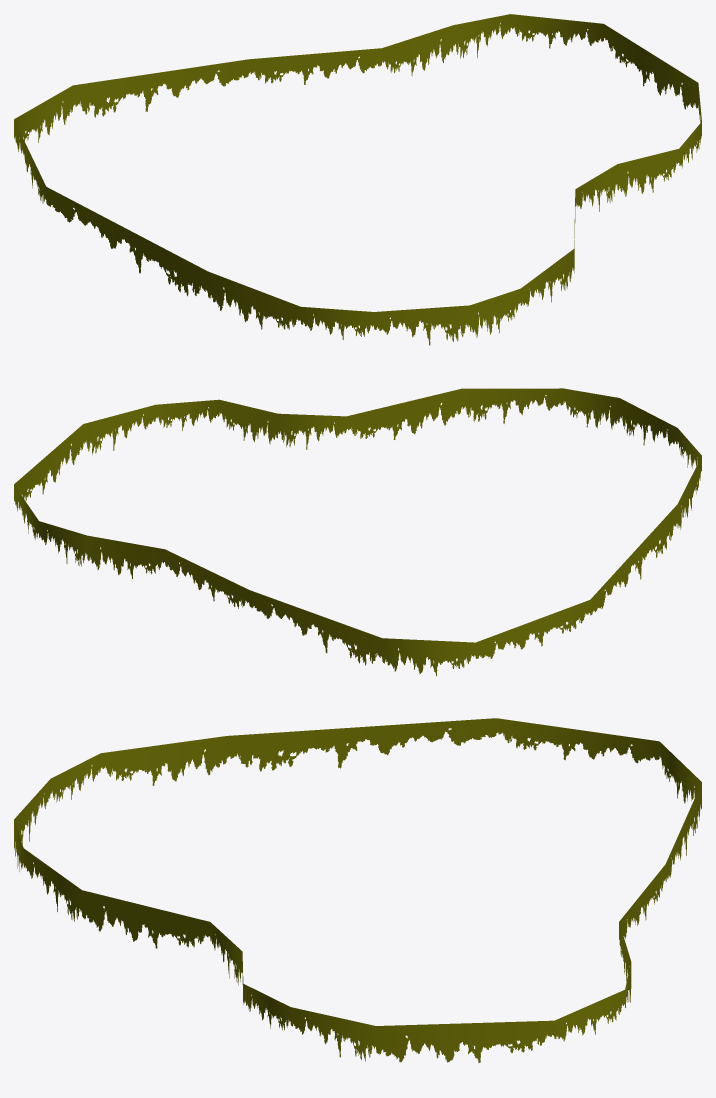
File: grassTopFringe_A.fbx
The picture shows the model from 3 angles, top to bottom: view 1: azimuth 30°, elevation 25°; view 2: azimuth 150°, elevation 25°; view 3: azimuth 270°, elevation 25°; orthographic projection. The views are drawn at different scales.
Parts seen in each view (by area): view 1: grassTopFringe_A; view 2: grassTopFringe_A; view 3: grassTopFringe_A.
Boxes of the visible parts, x1,y1,x2,y2 form: grassTopFringe_A: (14,14,701,345); grassTopFringe_A: (14,388,701,676); grassTopFringe_A: (14,718,701,1062).
Bounding box in the file's own units: 1685 × 147 × 1592.
